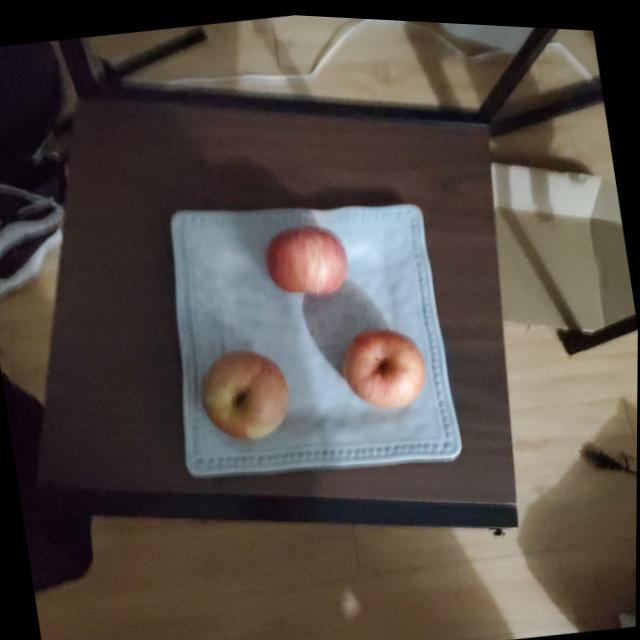apple: (197, 340, 295, 445), (342, 316, 430, 412), (262, 214, 354, 298)
